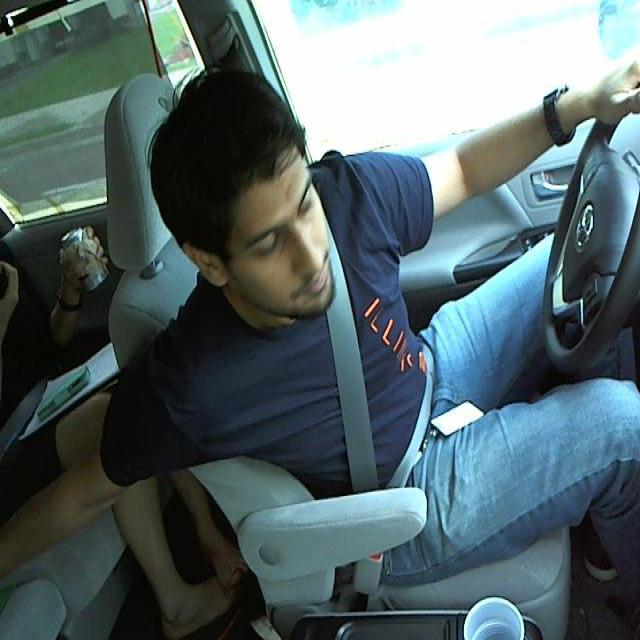seatbelt: (313, 259, 435, 537)
